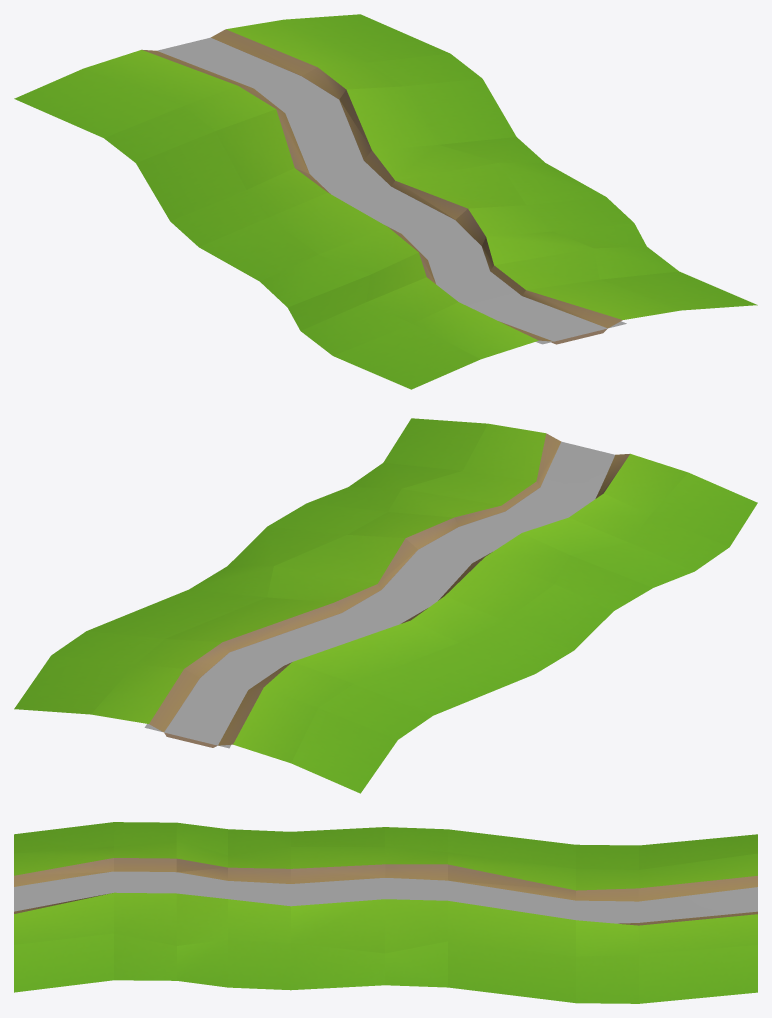
Rendered from Creek1.fbx.
3 renders of one model, top to bottom at view 1: azimuth 30°, elevation 25°; view 2: azimuth 150°, elevation 25°; view 3: azimuth 270°, elevation 25°, orthographic. The views are drawn at different scales.
Visible parts, largest first — view 1: Creek1, Creel1_Water; view 2: Creek1, Creel1_Water; view 3: Creek1, Creel1_Water.
Part boxes in pixels (x1,y1,x2,y2): Creek1: (14,14,757,389); Creel1_Water: (157,37,626,344); Creek1: (14,418,757,793); Creel1_Water: (144,441,614,748); Creek1: (14,822,757,1003); Creel1_Water: (14,871,757,923).
Bounding box in the file's own units: 22.87 × 1.32 × 39.54.
